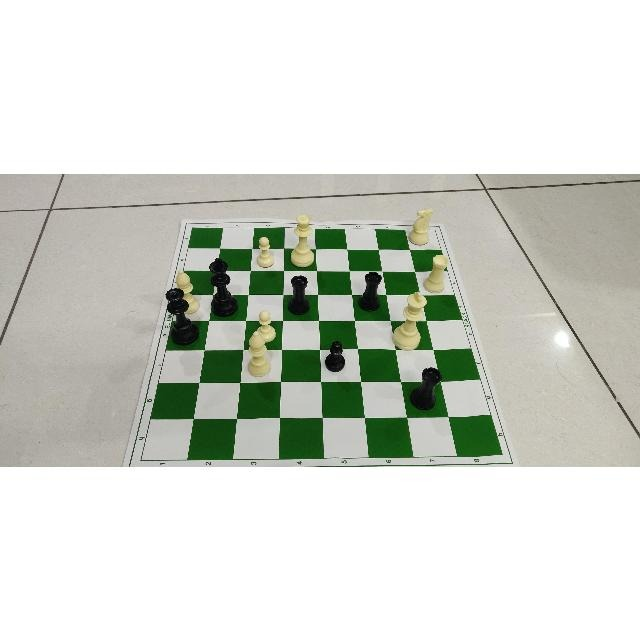black-king: (207, 254, 241, 318)
black-pawn: (321, 339, 350, 373)
black-queen: (161, 285, 203, 347)
black-rook: (408, 365, 443, 412), (281, 275, 315, 315), (356, 269, 387, 312)
white-bishop: (170, 264, 201, 316), (247, 328, 275, 377)
white-king: (391, 289, 428, 350)
white-knight: (410, 204, 436, 245)
white-pawn: (252, 308, 277, 344), (254, 231, 277, 270)
white-queen: (289, 213, 320, 266)
white-rook: (421, 253, 450, 292)
